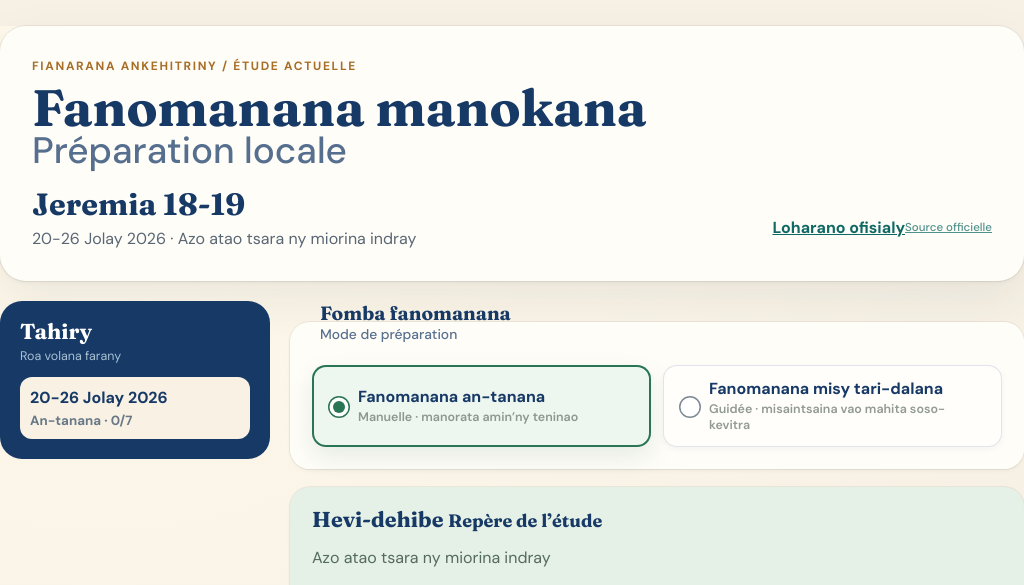
Scenario: PreparationWorkspace › requires a personal reflection before revealing a pre-generated catalogue suggestion
The width and height of the screenshot is (1024, 585).
Click the radio button labelled "Fanomanana misy tari-dalana". click: (690, 407)
box: [679,396,701,418]
(page scrolled)
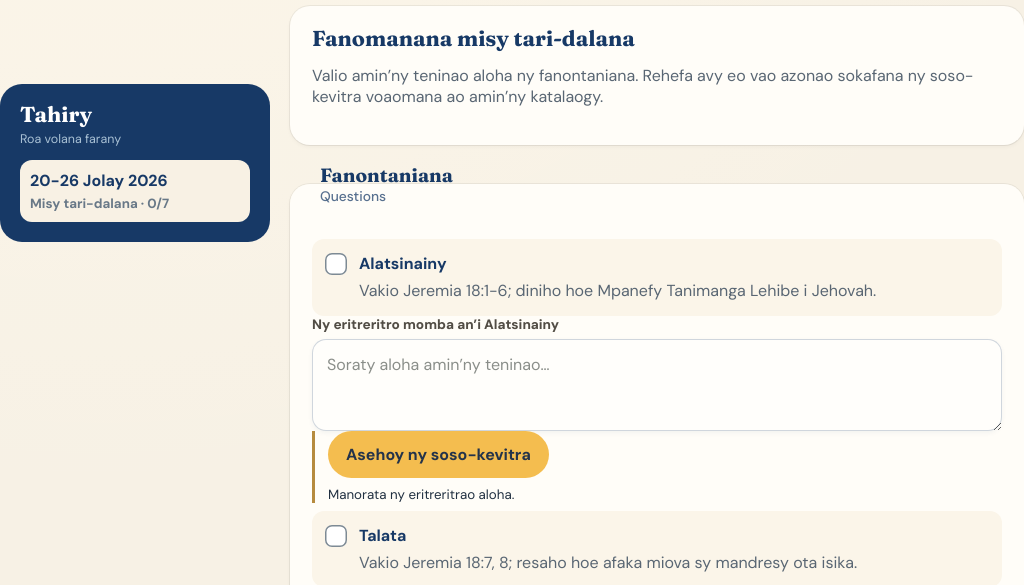
Expected: the text "Soso-kevitra voaomana sy voamarina." is not shown
Result: the button "Asehoy ny soso-kevitra" is disabled at [328,430,549,478]
Type "Ny valinteniko manokana" into the text box labelled "Ny eritreritro momba an’i Alatsinainy". click: (657, 384)
box: [312,338,1002,430]
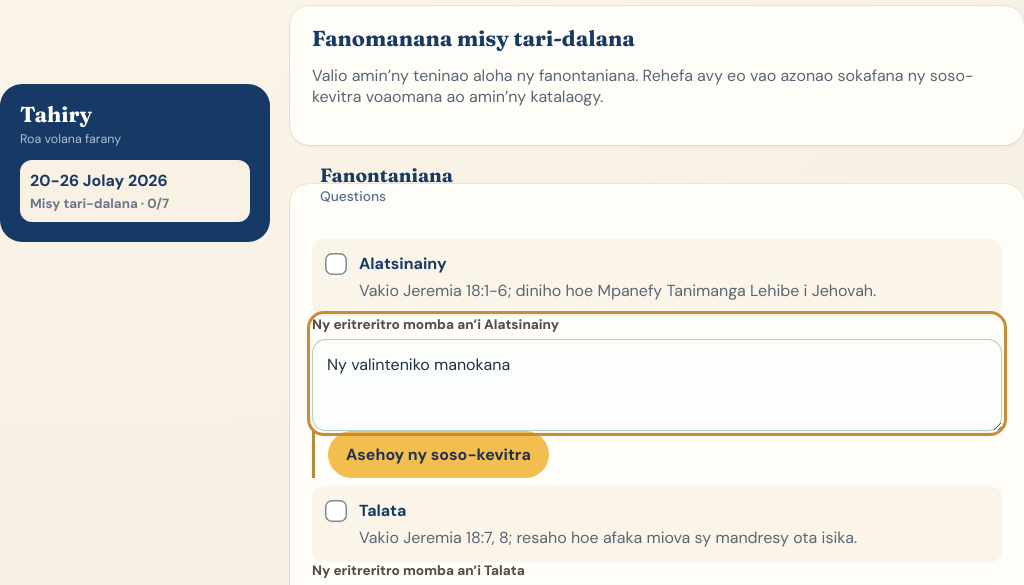
Result: the button "Asehoy ny soso-kevitra" is enabled
Click the button "Asehoy ny soso-kevitra". click: (438, 454)
box: [328,430,549,478]
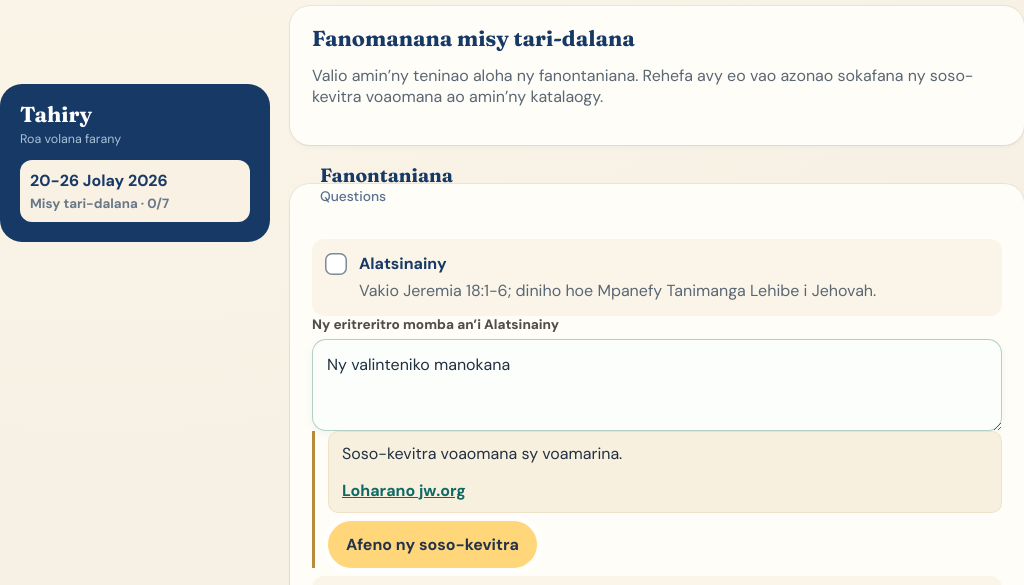
Result: the text "Soso-kevitra voaomana sy voamarina." is shown at [342,442,622,464]
